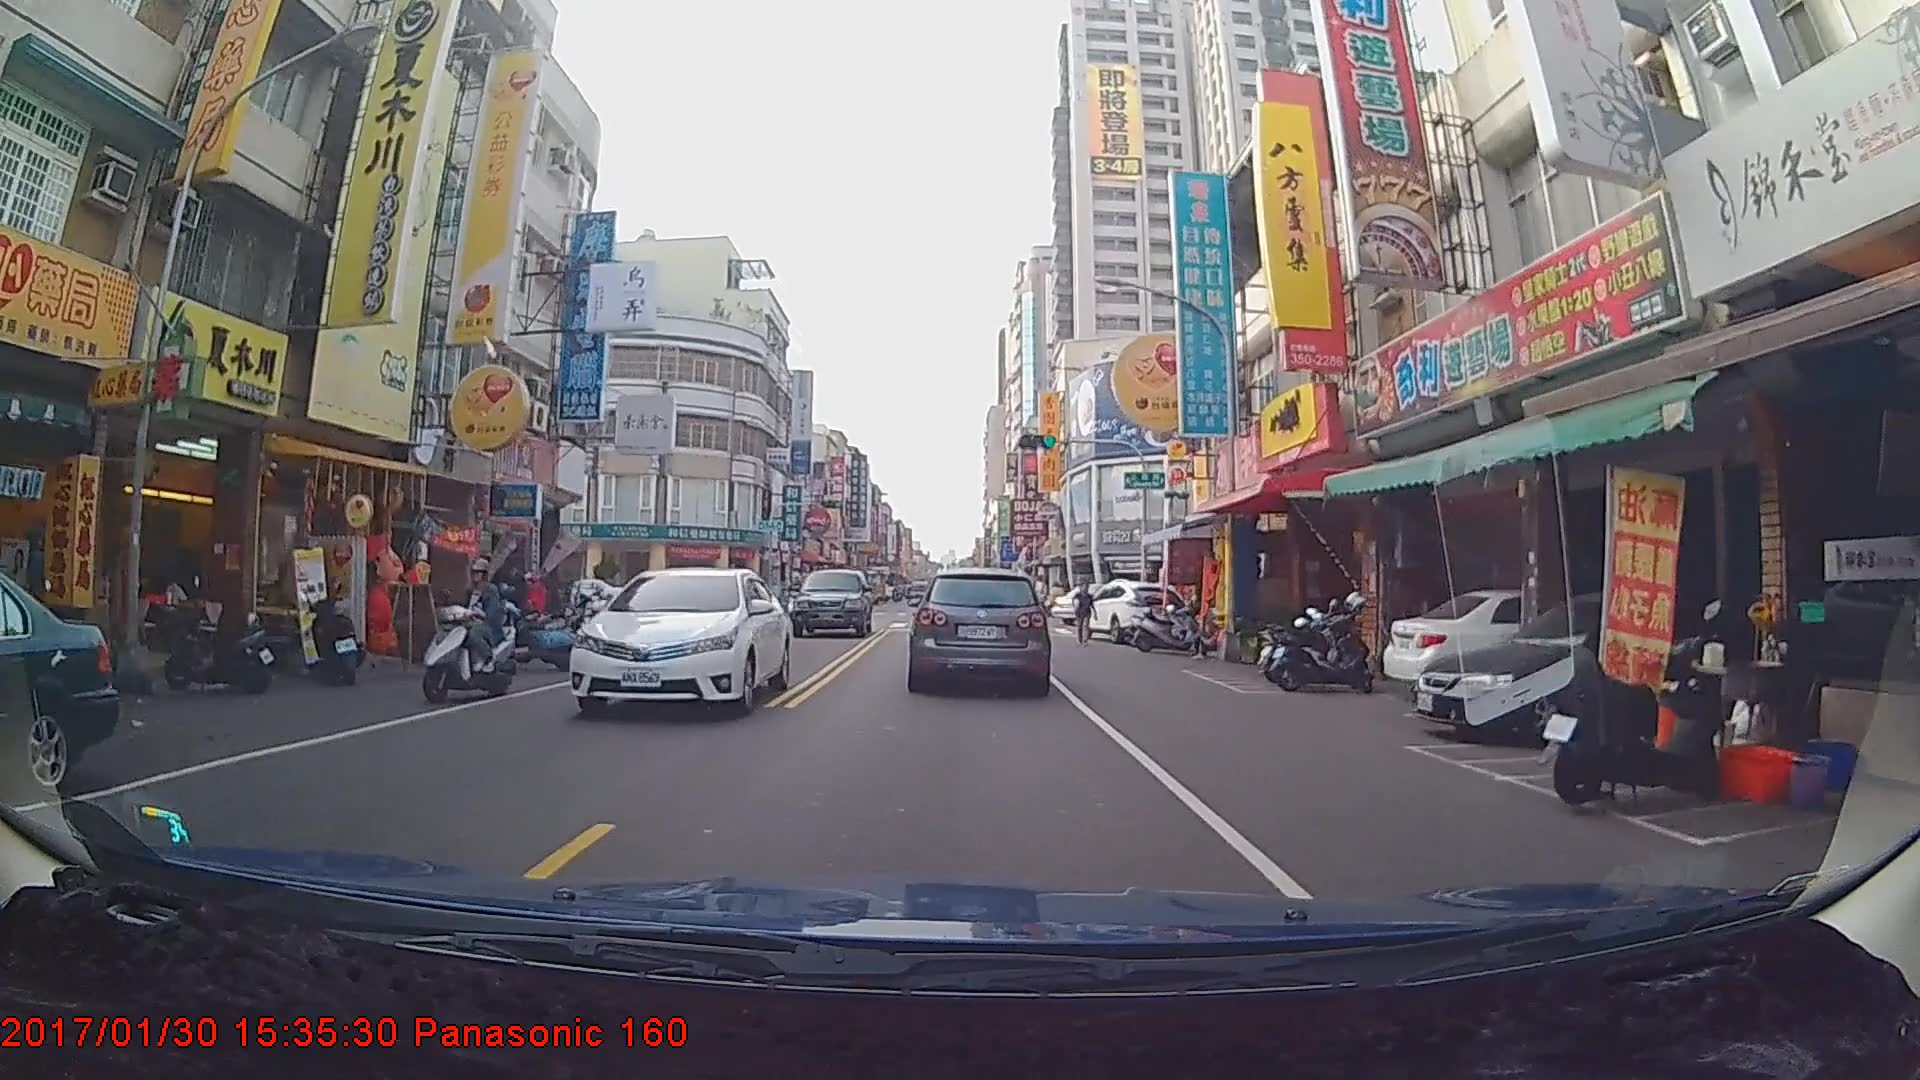pedestrian: (1073, 582, 1095, 648)
rider: (414, 561, 531, 710)
vehicle: (1413, 588, 1799, 752), (567, 564, 787, 723), (0, 559, 118, 801), (909, 566, 1049, 691), (1077, 576, 1191, 641), (791, 567, 873, 638), (906, 579, 931, 606)
